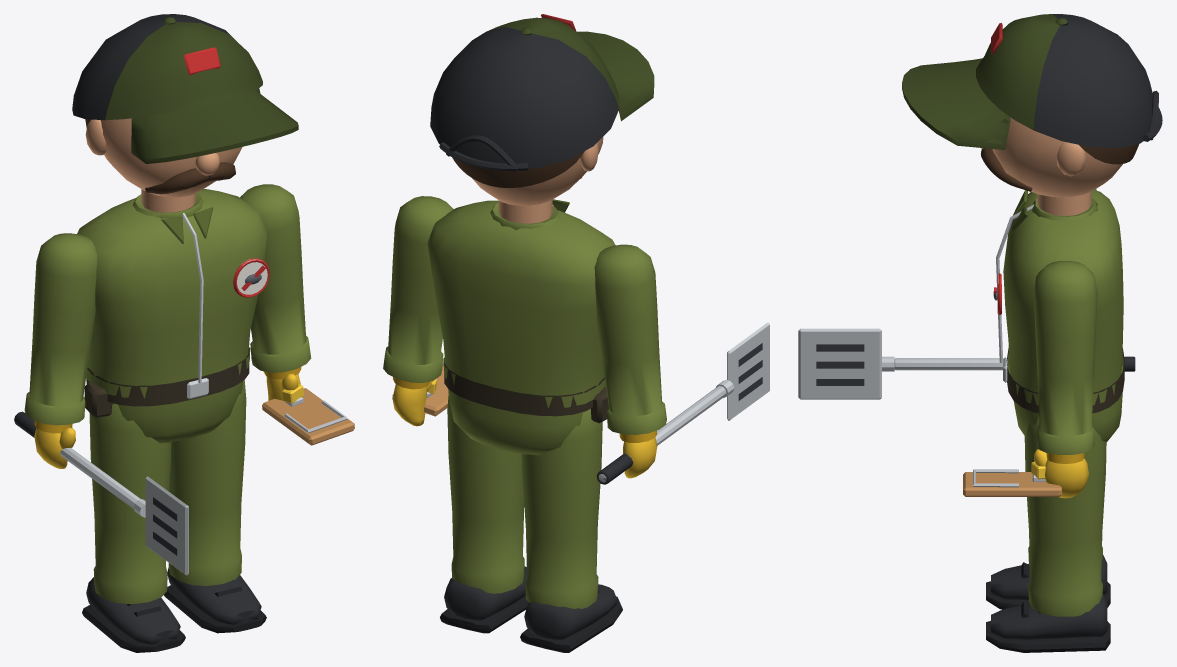
Rendered from Character_Class_exterminator.fbx.
The picture shows the model from 3 angles, left to right: view 1: azimuth 30°, elevation 25°; view 2: azimuth 150°, elevation 25°; view 3: azimuth 270°, elevation 25°; orthographic projection.
Visible parts, largest first — view 1: Torso, Crown, ArmR, LegR, LegL, ArmL, Head, Mesh, WhackerBlade, Hips, UtilityBelt, LegR_Shoe (+13 smaller); view 2: Torso, Mesh, LegR, ArmR, LegL, ArmL, Crown, Hips, WhackerBlade, UtilityBelt, Head, LegR_Shoe (+8 smaller); view 3: Torso, Mesh, Crown, ArmL, LegL, WhackerBlade, Head, LegL_Shoe, Trap, LegL_Sole, HandL, LegR_Shoe (+7 smaller).
Part boxes in pixels (x1,y1,x2,y2): Torso: [77, 189, 267, 398]; Crown: [105, 17, 298, 163]; ArmR: [24, 233, 97, 425]; LegR: [89, 403, 171, 604]; LegL: [168, 380, 246, 585]; ArmL: [240, 184, 311, 372]; Head: [85, 118, 242, 212]; Mesh: [72, 14, 234, 120]; WhackerBlade: [60, 448, 188, 575]; Hips: [112, 381, 242, 443]; UtilityBelt: [84, 349, 249, 417]; LegR_Shoe: [86, 577, 180, 644]; Torso: [427, 200, 615, 407]; Mesh: [430, 26, 619, 172]; LegR: [521, 409, 602, 608]; ArmR: [594, 244, 666, 434]; LegL: [447, 396, 524, 593]; ArmL: [383, 196, 453, 382]; Crown: [487, 17, 654, 121]; Hips: [448, 389, 582, 455]; WhackerBlade: [598, 322, 769, 482]; UtilityBelt: [444, 358, 608, 423]; Head: [472, 137, 603, 223]; LegR_Shoe: [524, 584, 617, 640]; Torso: [1003, 190, 1123, 405]; Mesh: [1033, 14, 1162, 148]; Crown: [902, 14, 1067, 149]; ArmL: [1033, 261, 1097, 454]; LegL: [1024, 417, 1106, 616]; WhackerBlade: [798, 328, 1003, 399]; Head: [981, 117, 1122, 216]; LegL_Shoe: [991, 593, 1107, 639]; Trap: [963, 472, 1061, 496]; LegL_Sole: [986, 601, 1110, 652]; HandL: [1034, 449, 1088, 498]; LegR_Shoe: [991, 554, 1107, 599].
Size of the model in its own units: 253 by 525 by 287.
